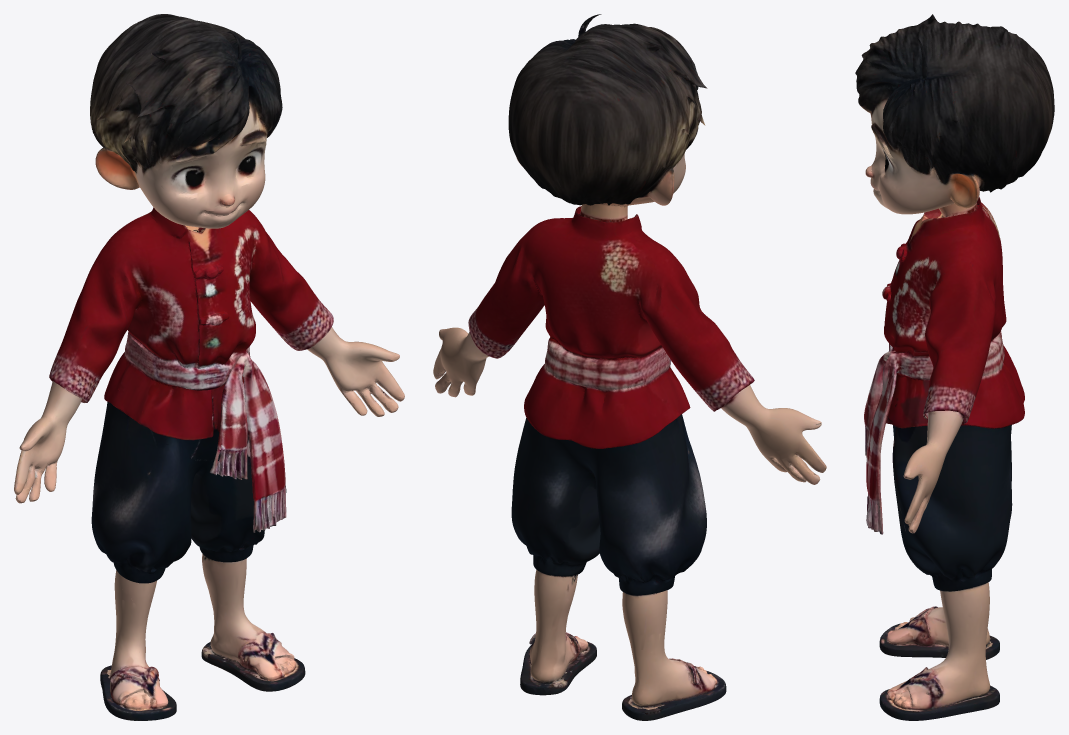
Rendered from rac-man.glb.
The picture shows the model from 3 angles, left to right: view 1: azimuth 30°, elevation 25°; view 2: azimuth 150°, elevation 25°; view 3: azimuth 270°, elevation 25°; orthographic projection.
Parts seen in each view (by area): view 1: Mesh; view 2: Mesh; view 3: Mesh.
Boxes of the visible parts, left/top/right/bottom form: Mesh: left=14, top=14, right=404, bottom=720; Mesh: left=433, top=14, right=826, bottom=720; Mesh: left=855, top=14, right=1054, bottom=720.
Bounding box in the file's own units: 1.18 × 1.9 × 0.5265.
1 material, 1 textured.
